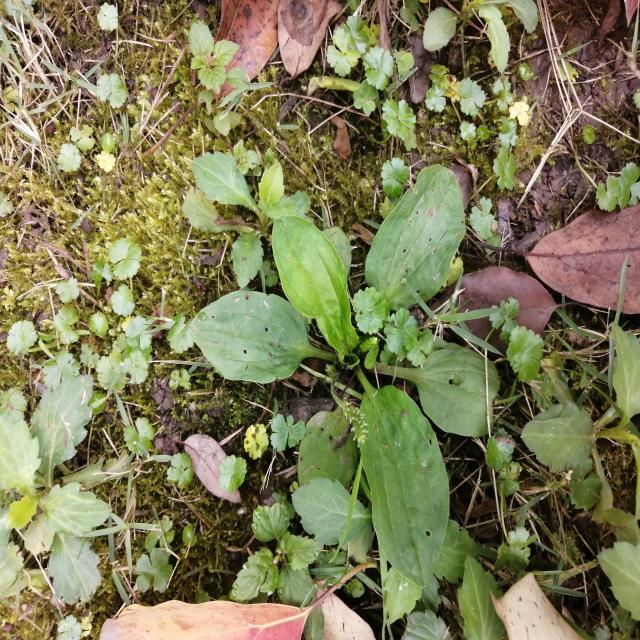plantain: (224, 183, 491, 565)
